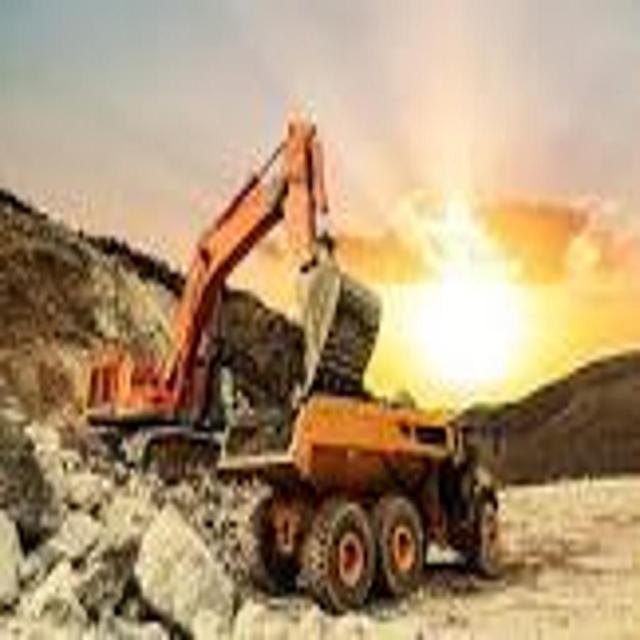dump_truck: (215, 394, 508, 617)
